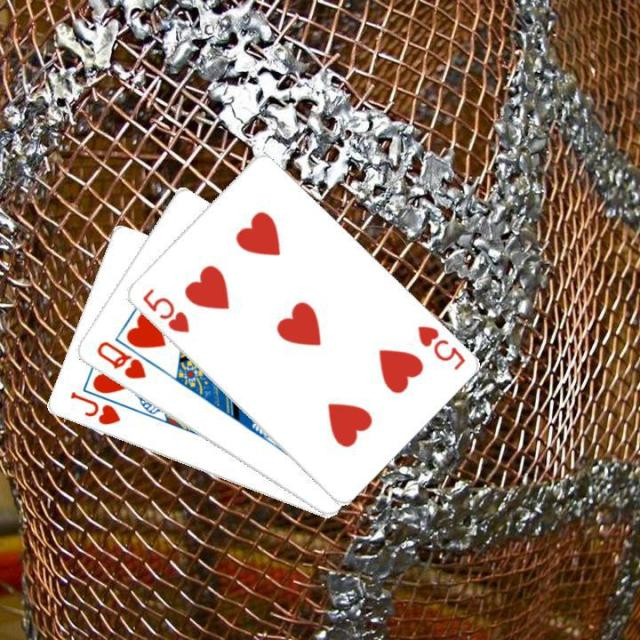5H: (137, 284, 191, 335), (412, 322, 467, 372)
JH: (66, 388, 122, 428)
QH: (91, 337, 148, 381)
